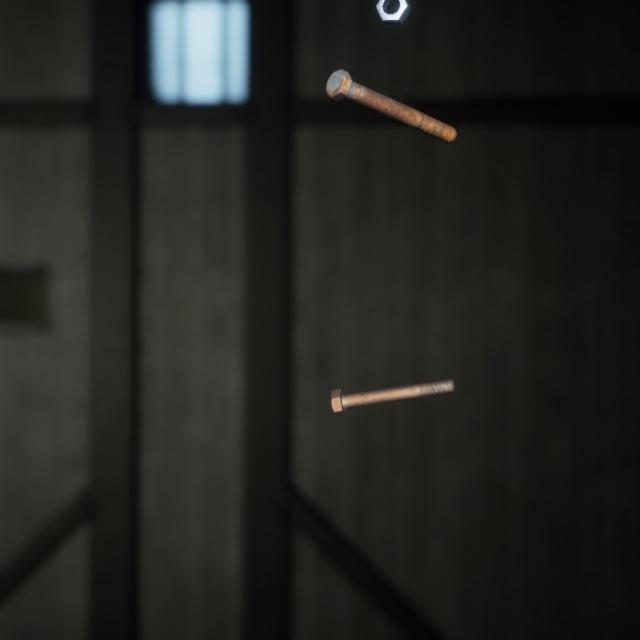bolt: (321, 53, 461, 136), (326, 356, 459, 402)
nut: (371, 0, 416, 23)
